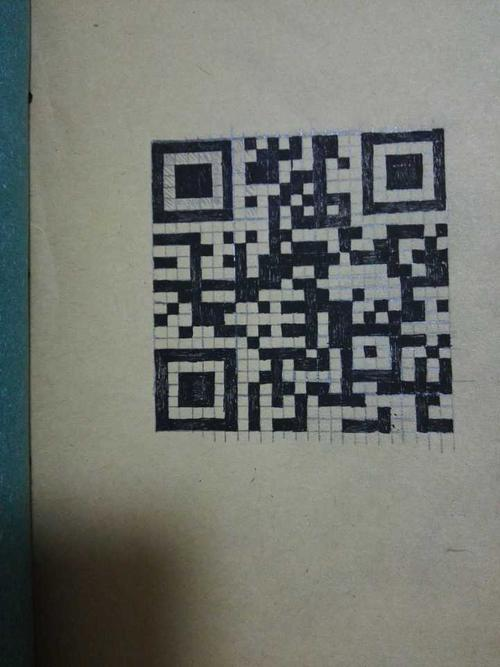QRCode: (140, 118, 473, 451)
